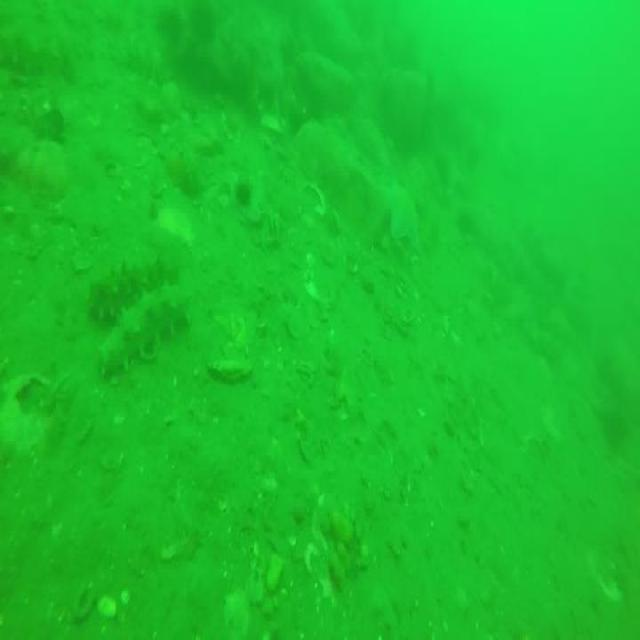holothurian: (95, 283, 193, 371), (89, 259, 179, 326), (3, 24, 69, 79), (122, 38, 166, 85)
scallop: (305, 526, 355, 601), (306, 267, 335, 307), (264, 103, 286, 139)
starfish: (387, 185, 421, 245)
